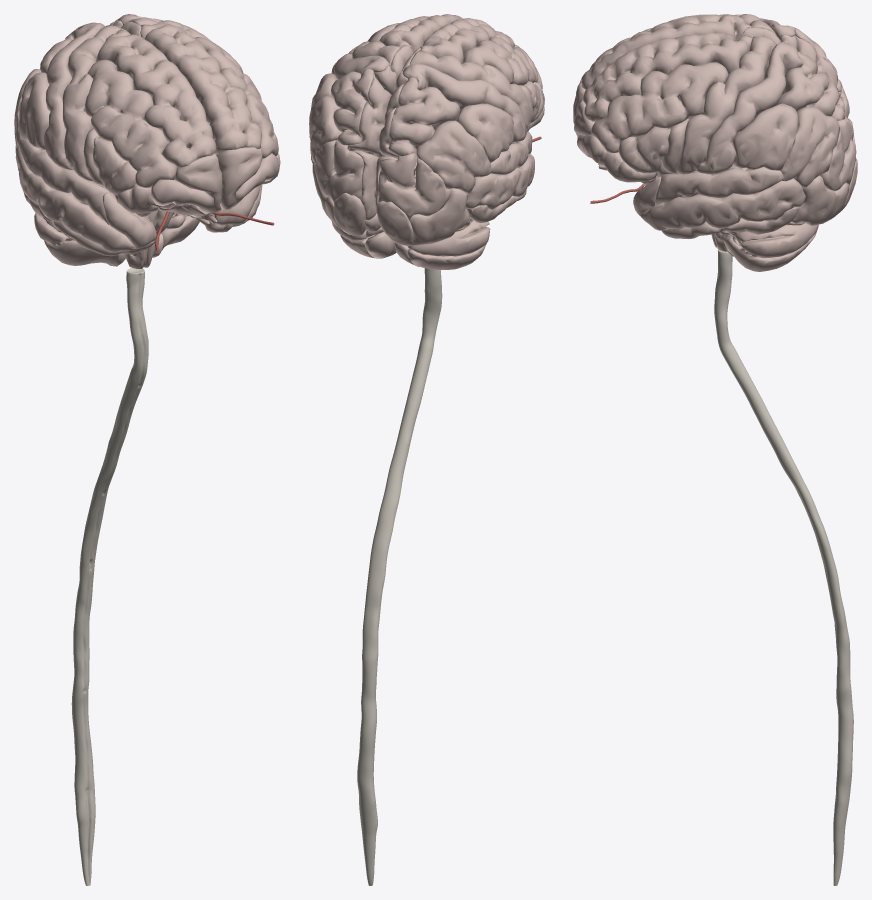
The model's file is adult_female.nervous.LOD1.glb.
3 renders of one model, left to right at view 1: azimuth 30°, elevation 25°; view 2: azimuth 150°, elevation 25°; view 3: azimuth 270°, elevation 25°, orthographic. The views are drawn at different scales.
Parts seen in each view (by area): view 1: ADULT.FEMALE.NERVOUS.SUPERIOR_FRONTAL_GYRUS.R, ADULT.FEMALE.NERVOUS.MIDDLE_FRONTAL_GYRUS.R, ADULT.FEMALE.NERVOUS.SUPERIOR_FRONTAL_GYRUS.L, ADULT.FEMALE.NERVOUS.MIDDLE_TEMPORAL_GYRUS.R, ADULT.FEMALE.NERVOUS.PRECENTRAL_GYRUS.R, ADULT.FEMALE.NERVOUS.POSTCENTRAL_GYRUS.R, ADULT.FEMALE.NERVOUS.SUPERIOR_TEMPORAL_GYRUS.R, ADULT.FEMALE.NERVOUS.MIDDLE_FRONTAL_GYRUS.L, ADULT.FEMALE.NERVOUS.SUPRAMARGINAL_GYRUS.R, ADULT.FEMALE.NERVOUS.ROSTRAL_GYRUS.L, ADULT.FEMALE.NERVOUS.LATERAL_HEMISPHERE_OF_CEREBELLUM.R, ADULT.FEMALE.NERVOUS.INFERIOR_FRONTAL_GYRUS_TRIANGULAR_PART. (+12 smaller); view 2: ADULT.FEMALE.NERVOUS.ANGULAR_GYRUS.R, ADULT.FEMALE.NERVOUS.SUPRAPARIETAL_LOBULE.R, ADULT.FEMALE.NERVOUS.SUPERIOR_OCCIPITAL_GYRUS.R, ADULT.FEMALE.NERVOUS.POSTCENTRAL_GYRUS.R, ADULT.FEMALE.NERVOUS.LATERAL_HEMISPHERE_OF_CEREBELLUM.R, ADULT.FEMALE.NERVOUS.SUPERIOR_OCCIPITAL_GYRUS.L, ADULT.FEMALE.NERVOUS.PRECENTRAL_GYRUS.R, ADULT.FEMALE.NERVOUS.SUPRAPARIETAL_LOBULE.L, ADULT.FEMALE.NERVOUS.SUPRAMARGINAL_GYRUS.R, ADULT.FEMALE.NERVOUS.MIDDLE_FRONTAL_GYRUS.R, ADULT.FEMALE.NERVOUS.SUPERIOR_FRONTAL_GYRUS.R, ADULT.FEMALE.NERVOUS.INFERIOR_OCCIPITAL_GYRUS.R (+21 smaller); view 3: ADULT.FEMALE.NERVOUS.MIDDLE_FRONTAL_GYRUS.L, ADULT.FEMALE.NERVOUS.SUPERIOR_FRONTAL_GYRUS.L, ADULT.FEMALE.NERVOUS.MIDDLE_TEMPORAL_GYRUS.L, ADULT.FEMALE.NERVOUS.PRECENTRAL_GYRUS.L, ADULT.FEMALE.NERVOUS.POSTCENTRAL_GYRUS.L, ADULT.FEMALE.NERVOUS.SUPRAMARGINAL_GYRUS.L, ADULT.FEMALE.NERVOUS.ANGULAR_GYRUS.L, ADULT.FEMALE.NERVOUS.SUPERIOR_TEMPORAL_GYRUS.L, ADULT.FEMALE.NERVOUS.LATERAL_HEMISPHERE_OF_CEREBELLUM.L, ADULT.FEMALE.NERVOUS.SUPERIOR_FRONTAL_GYRUS.R, ADULT.FEMALE.NERVOUS.SUPRAPARIETAL_LOBULE.L, ADULT.FEMALE.NERVOUS.INFERIOR_FRONTAL_GYRUS_TRIANGULAR_PART. (+7 smaller).
Part boxes in pixels (box(x1,y1,x2,y2)): ADULT.FEMALE.NERVOUS.SUPERIOR_FRONTAL_GYRUS.R: box(96, 30, 216, 169); ADULT.FEMALE.NERVOUS.MIDDLE_FRONTAL_GYRUS.R: box(85, 59, 177, 187); ADULT.FEMALE.NERVOUS.SUPERIOR_FRONTAL_GYRUS.L: box(140, 23, 261, 153); ADULT.FEMALE.NERVOUS.MIDDLE_TEMPORAL_GYRUS.R: box(15, 147, 135, 252); ADULT.FEMALE.NERVOUS.PRECENTRAL_GYRUS.R: box(62, 25, 120, 181); ADULT.FEMALE.NERVOUS.POSTCENTRAL_GYRUS.R: box(43, 22, 104, 169); ADULT.FEMALE.NERVOUS.SUPERIOR_TEMPORAL_GYRUS.R: box(18, 138, 111, 224); ADULT.FEMALE.NERVOUS.MIDDLE_FRONTAL_GYRUS.L: box(194, 37, 278, 158); ADULT.FEMALE.NERVOUS.SUPRAMARGINAL_GYRUS.R: box(18, 72, 50, 149); ADULT.FEMALE.NERVOUS.ROSTRAL_GYRUS.L: box(216, 147, 262, 210); ADULT.FEMALE.NERVOUS.LATERAL_HEMISPHERE_OF_CEREBELLUM.R: box(34, 212, 118, 265); ADULT.FEMALE.NERVOUS.INFERIOR_FRONTAL_GYRUS_TRIANGULAR_PART.: box(92, 136, 136, 195); ADULT.FEMALE.NERVOUS.ANGULAR_GYRUS.R: box(416, 120, 490, 192); ADULT.FEMALE.NERVOUS.SUPRAPARIETAL_LOBULE.R: box(388, 77, 460, 156); ADULT.FEMALE.NERVOUS.SUPERIOR_OCCIPITAL_GYRUS.R: box(378, 152, 451, 219); ADULT.FEMALE.NERVOUS.POSTCENTRAL_GYRUS.R: box(402, 63, 527, 142); ADULT.FEMALE.NERVOUS.LATERAL_HEMISPHERE_OF_CEREBELLUM.R: box(407, 220, 490, 269); ADULT.FEMALE.NERVOUS.SUPERIOR_OCCIPITAL_GYRUS.L: box(315, 139, 364, 204); ADULT.FEMALE.NERVOUS.PRECENTRAL_GYRUS.R: box(410, 50, 530, 131); ADULT.FEMALE.NERVOUS.SUPRAPARIETAL_LOBULE.L: box(331, 68, 373, 145); ADULT.FEMALE.NERVOUS.SUPRAMARGINAL_GYRUS.R: box(457, 103, 513, 162); ADULT.FEMALE.NERVOUS.MIDDLE_FRONTAL_GYRUS.R: box(463, 36, 542, 88); ADULT.FEMALE.NERVOUS.SUPERIOR_FRONTAL_GYRUS.R: box(420, 18, 519, 63); ADULT.FEMALE.NERVOUS.INFERIOR_OCCIPITAL_GYRUS.R: box(409, 188, 472, 246); ADULT.FEMALE.NERVOUS.MIDDLE_FRONTAL_GYRUS.L: box(591, 62, 728, 152); ADULT.FEMALE.NERVOUS.SUPERIOR_FRONTAL_GYRUS.L: box(583, 33, 752, 121); ADULT.FEMALE.NERVOUS.MIDDLE_TEMPORAL_GYRUS.L: box(640, 178, 805, 230); ADULT.FEMALE.NERVOUS.PRECENTRAL_GYRUS.L: box(676, 36, 776, 174); ADULT.FEMALE.NERVOUS.POSTCENTRAL_GYRUS.L: box(696, 42, 802, 174); ADULT.FEMALE.NERVOUS.SUPRAMARGINAL_GYRUS.L: box(732, 103, 798, 170); ADULT.FEMALE.NERVOUS.ANGULAR_GYRUS.L: box(781, 106, 839, 188); ADULT.FEMALE.NERVOUS.SUPERIOR_TEMPORAL_GYRUS.L: box(655, 167, 783, 205); ADULT.FEMALE.NERVOUS.LATERAL_HEMISPHERE_OF_CEREBELLUM.L: box(719, 223, 818, 271); ADULT.FEMALE.NERVOUS.SUPERIOR_FRONTAL_GYRUS.R: box(581, 14, 751, 89); ADULT.FEMALE.NERVOUS.SUPRAPARIETAL_LOBULE.L: box(776, 51, 844, 120); ADULT.FEMALE.NERVOUS.INFERIOR_FRONTAL_GYRUS_TRIANGULAR_PART.: box(618, 126, 670, 173).
Bounding box in the file's own units: 0.1362 × 0.5552 × 0.1669.
